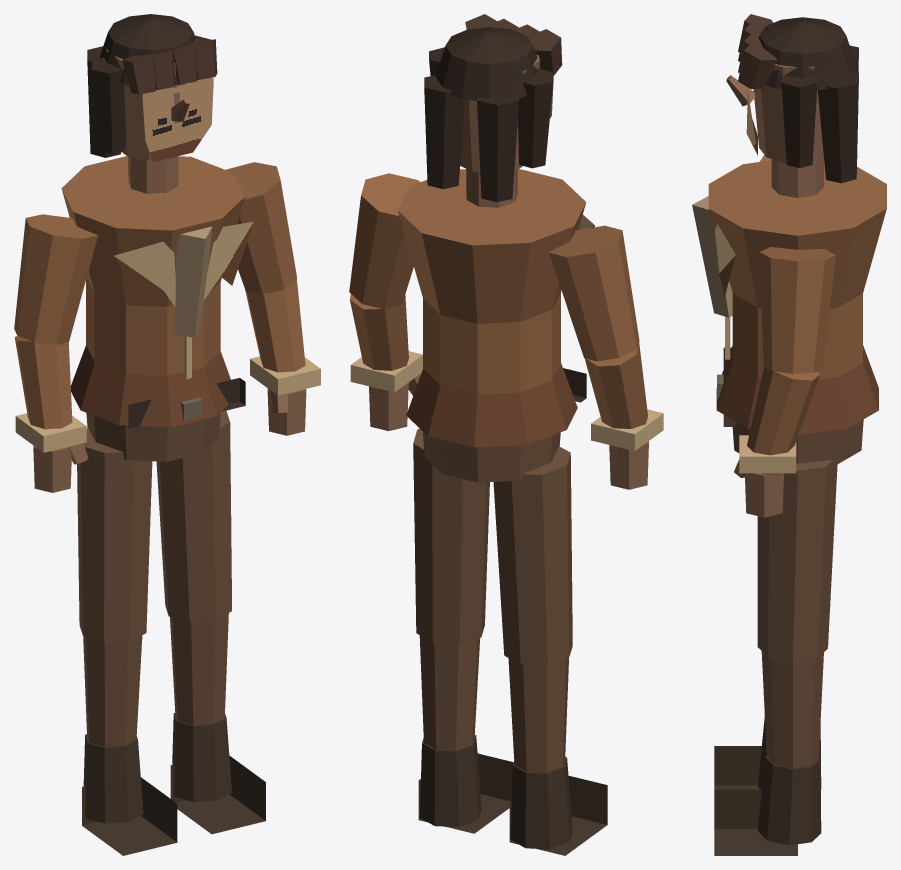
Rendered from davy-b3.glb.
3 views of the same model, side by side, from view 1: azimuth 30°, elevation 25°; view 2: azimuth 150°, elevation 25°; view 3: azimuth 270°, elevation 25° (orthographic). The views are drawn at different scales.
Parts seen in each view (by area): view 1: Davy_B3_unrigged; view 2: Davy_B3_unrigged; view 3: Davy_B3_unrigged.
Part boxes in pixels (left/top/right/bottom): Davy_B3_unrigged: left=14, top=14, right=320, bottom=855; Davy_B3_unrigged: left=349, top=14, right=663, bottom=855; Davy_B3_unrigged: left=692, top=14, right=886, bottom=855.
Bounding box in the file's own units: 0.97 × 2.63 × 0.5828.
Materials: 1 (1 with a texture image).
